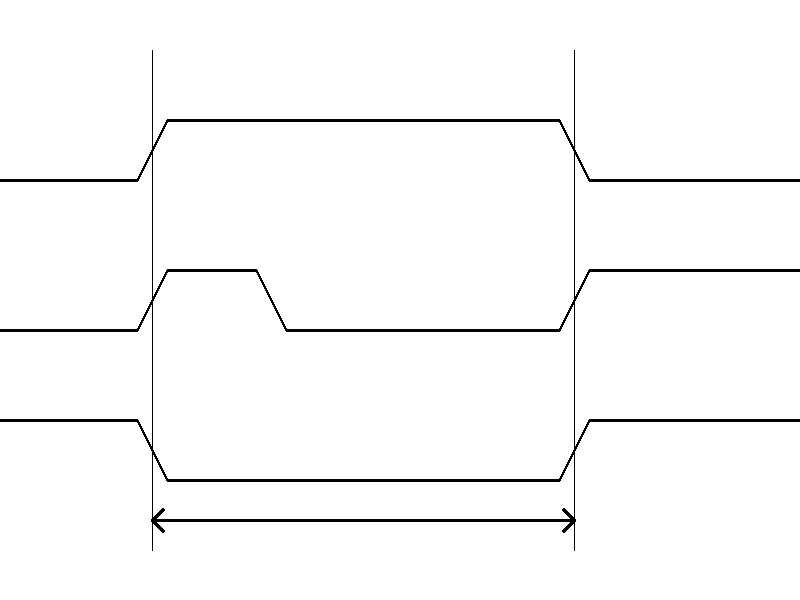double_arrow: (152, 505, 574, 535)
